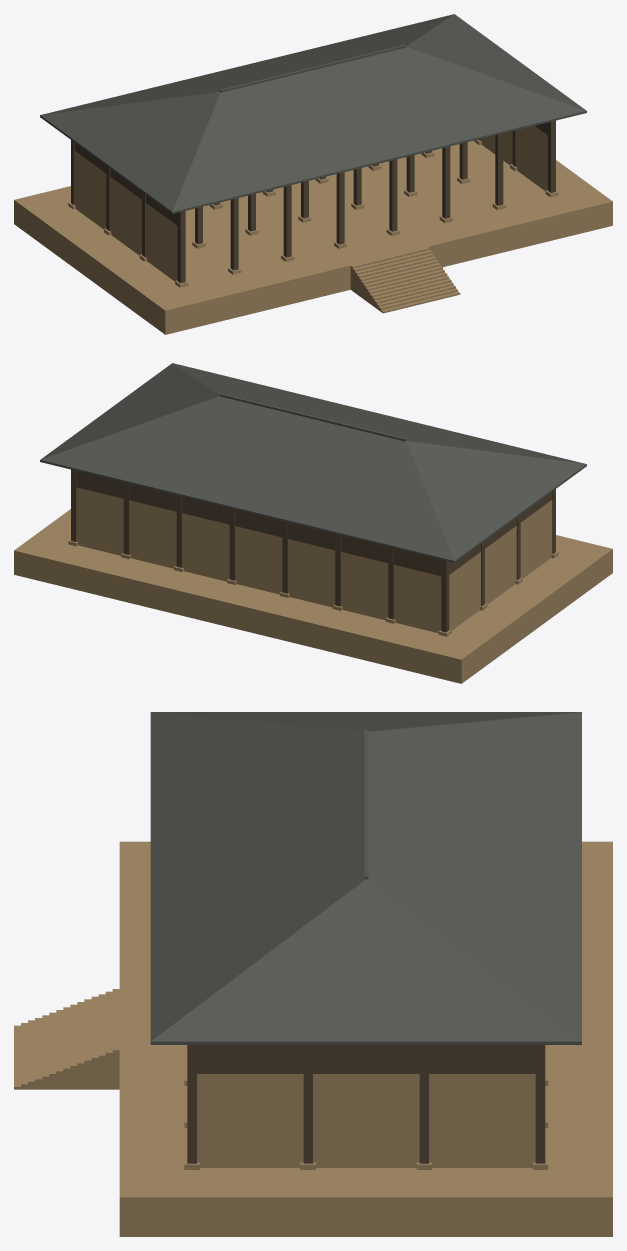
Rendered from deyang-B-LOD2.glb.
3 views of the same model, one above another, from view 1: azimuth 30°, elevation 25°; view 2: azimuth 150°, elevation 25°; view 3: azimuth 270°, elevation 25° (orthographic). The views are drawn at different scales.
Visible parts, largest first — view 1: deyang-B-static_earth, deyang-B-static_tile, deyang-B-static_timber; view 2: deyang-B-static_tile, deyang-B-static_earth, deyang-B-static_timber; view 3: deyang-B-static_tile, deyang-B-static_earth, deyang-B-static_timber.
Boxes of the visible parts, x1,y1,x2,y2 form: deyang-B-static_earth: [14, 126, 612, 334]; deyang-B-static_tile: [40, 14, 586, 213]; deyang-B-static_timber: [71, 120, 555, 283]; deyang-B-static_tile: [40, 363, 586, 562]; deyang-B-static_earth: [14, 487, 612, 683]; deyang-B-static_timber: [71, 469, 555, 632]; deyang-B-static_tile: [150, 712, 581, 1044]; deyang-B-static_earth: [14, 841, 612, 1236]; deyang-B-static_timber: [187, 1045, 545, 1163].
Size of the model in its own units: 40.6 by 13.64 by 28.9.
